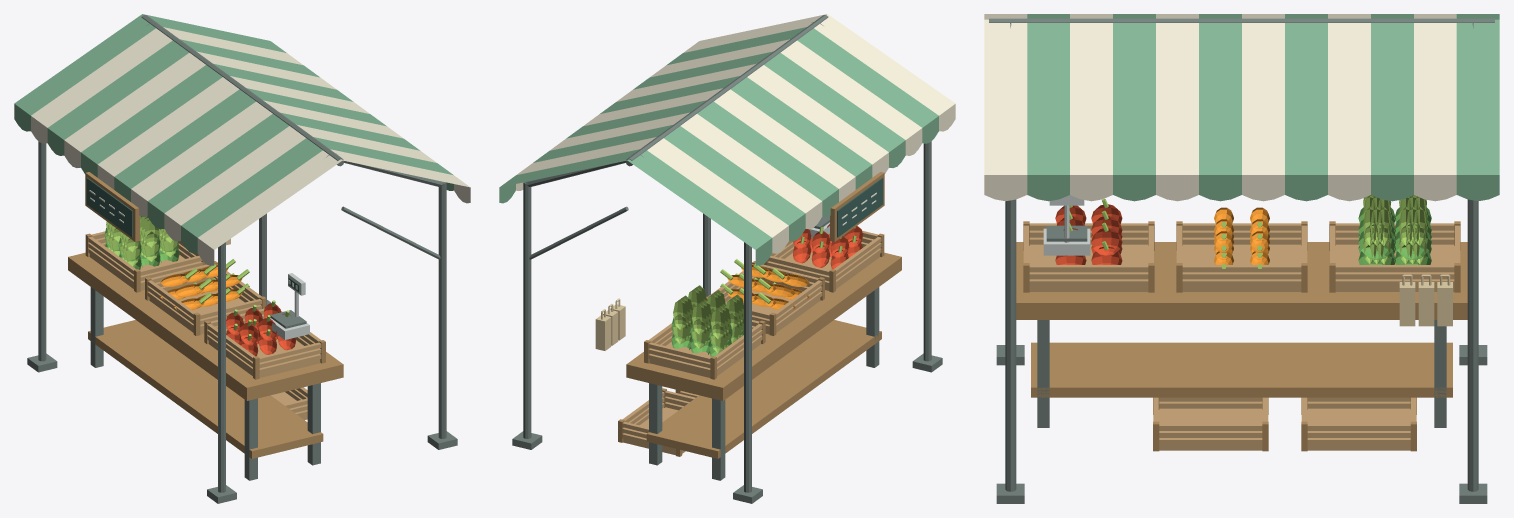
Rendered from market-vegetables.glb.
3 views of the same model, side by side, from view 1: azimuth 30°, elevation 25°; view 2: azimuth 150°, elevation 25°; view 3: azimuth 270°, elevation 25° (orthographic). The views are drawn at different scales.
Parts seen in each view (by area): view 1: vegetables market stall; view 2: vegetables market stall; view 3: vegetables market stall.
Part boxes in pixels (x1,y1,x2,y2): vegetables market stall: (14, 14, 470, 503); vegetables market stall: (499, 14, 955, 503); vegetables market stall: (984, 14, 1499, 503).
Bounding box in the file's own units: 2.49 × 2.89 × 3.3.
